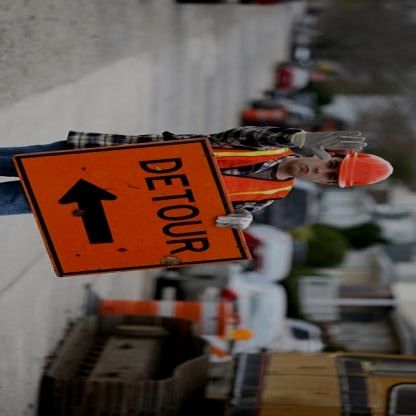vest: (213, 143, 304, 204)
